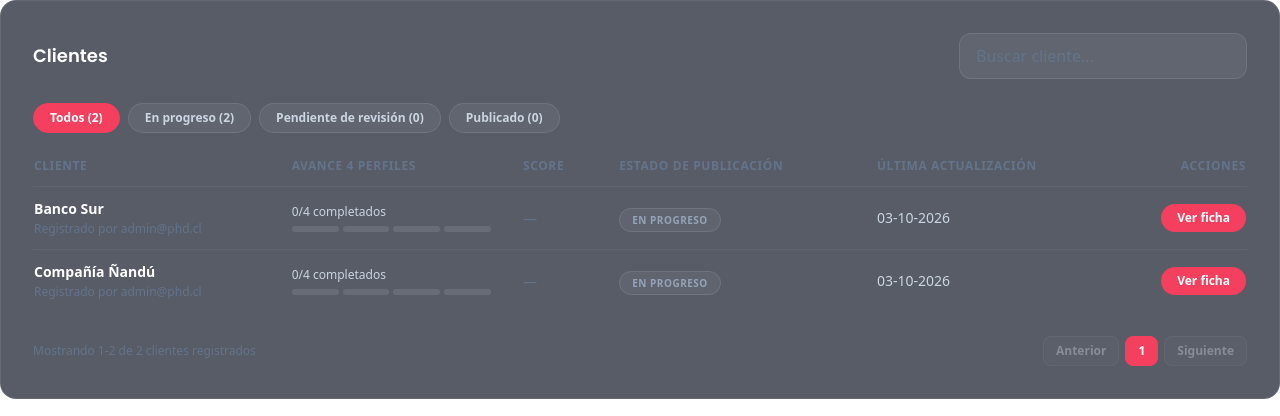
Scenario: ClientsTable › la búsqueda filtra filas por nombre insensible a tildes
Expected: the text "Compañía Ñandú" is shown, 34,262 -> 155,282
Expected: the text "Banco Sur" is shown, 34,199 -> 104,219
Type "nandu" into the field labelled "Buscar cliente..." at (1103, 56), box 959,33 -> 1247,79
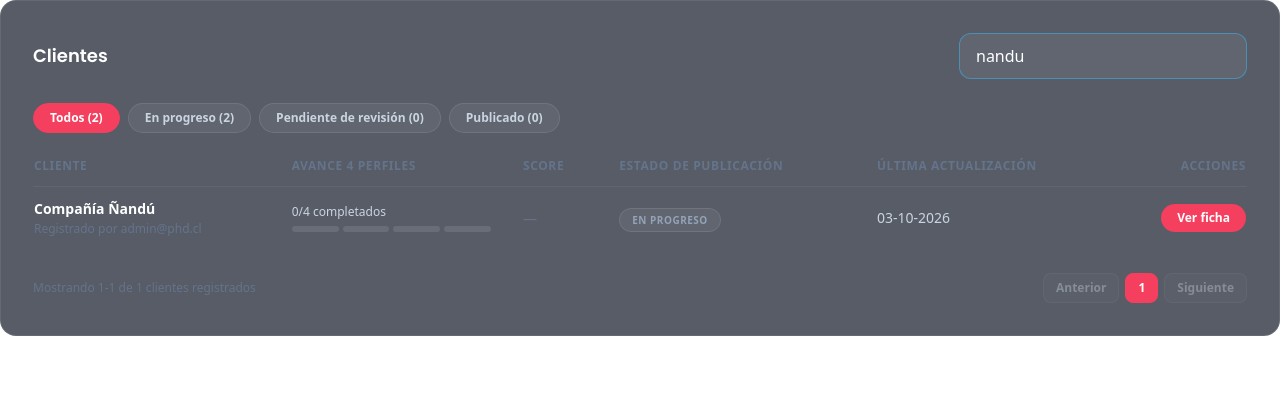
Expected: the text "Compañía Ñandú" is shown, 34,199 -> 155,219
Now the text "Banco Sur" is gone
